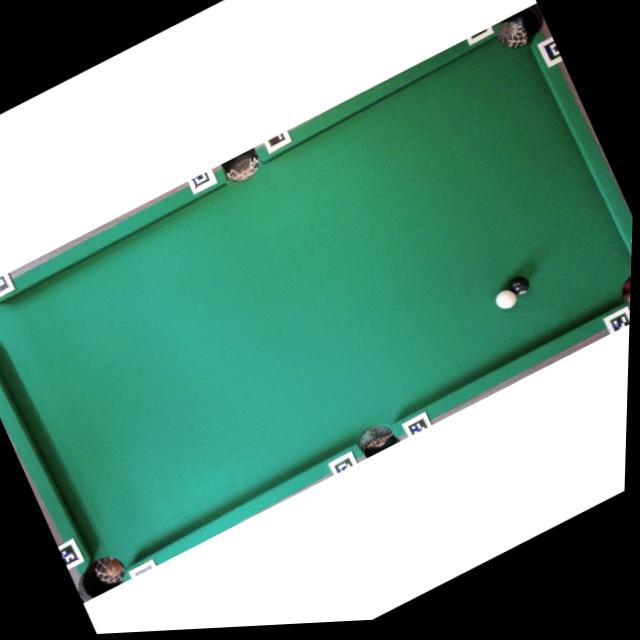cue ball: (491, 285, 521, 314)
other: (506, 272, 533, 299)
